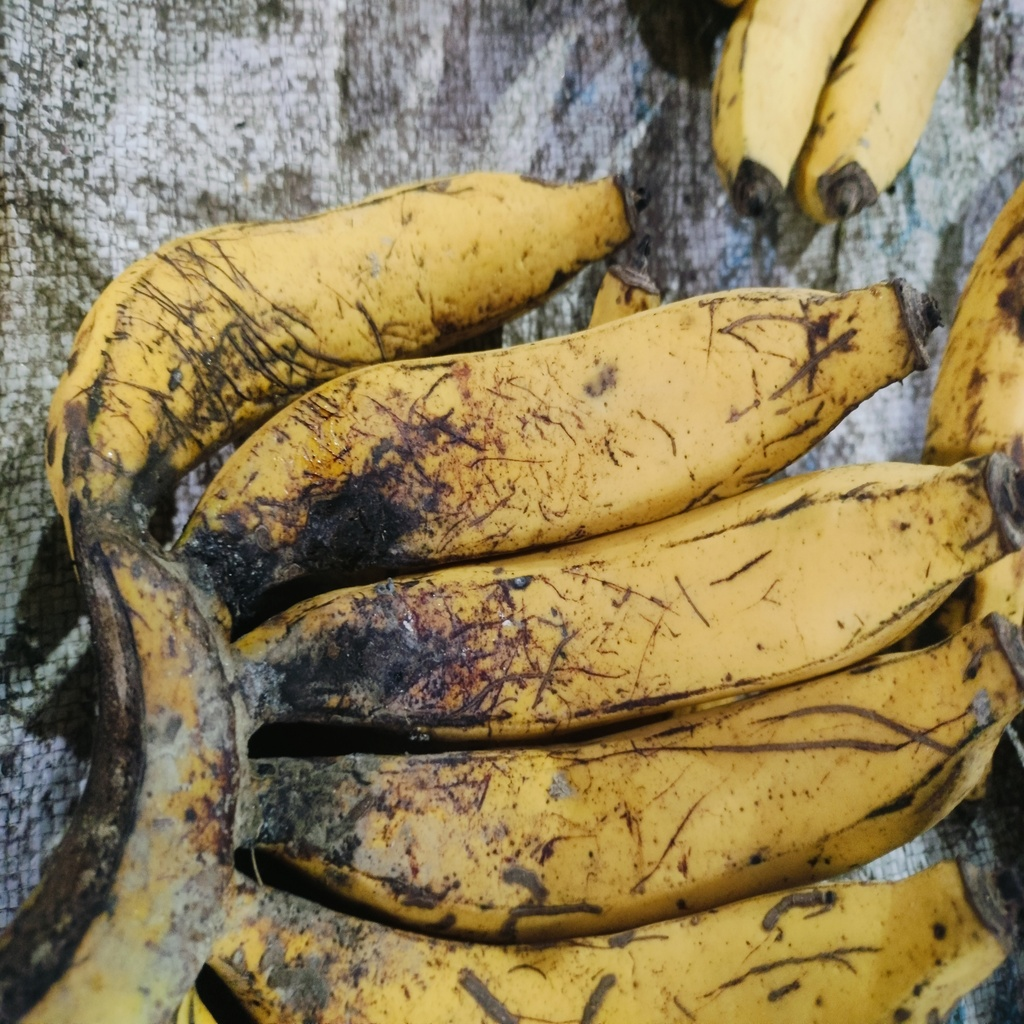unhealthy: (256, 452, 999, 729), (196, 289, 931, 557), (305, 654, 1012, 921), (92, 171, 629, 458)
